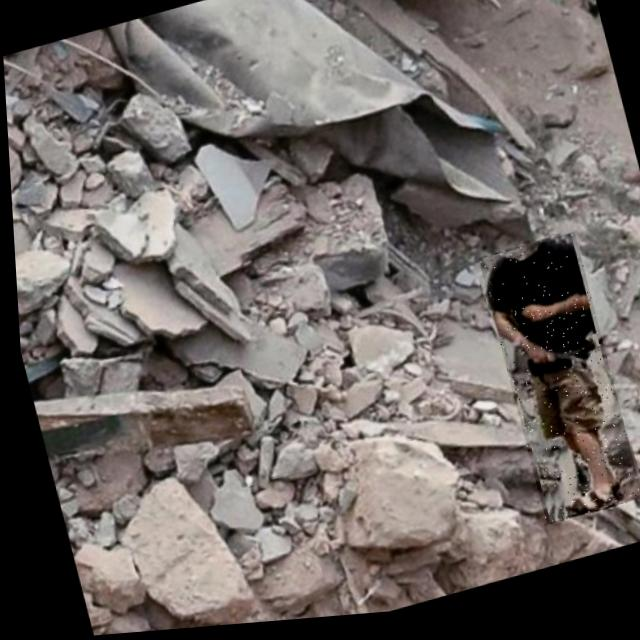Person in Rubble: (474, 237, 637, 537)
